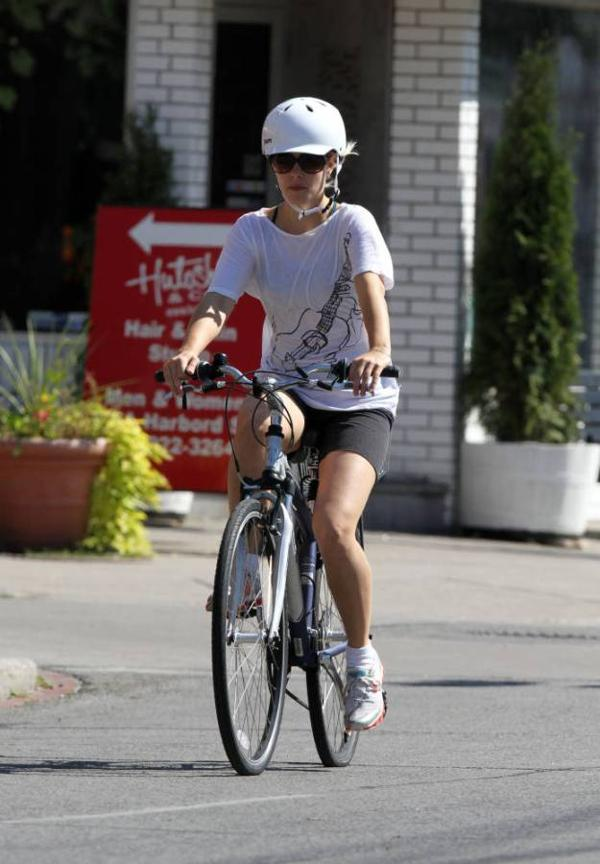person: (164, 93, 405, 734)
